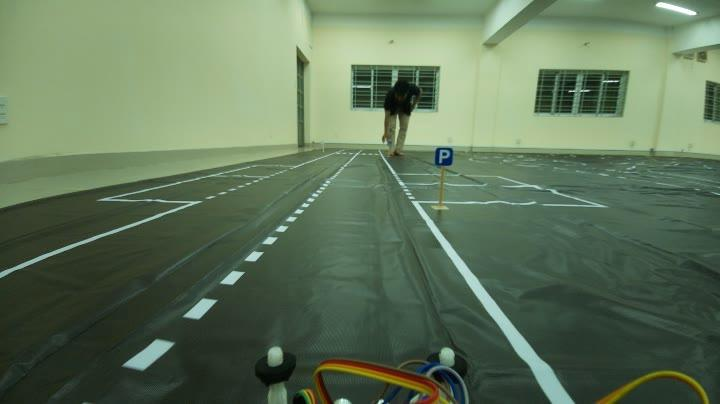parking: (432, 143, 458, 172)
